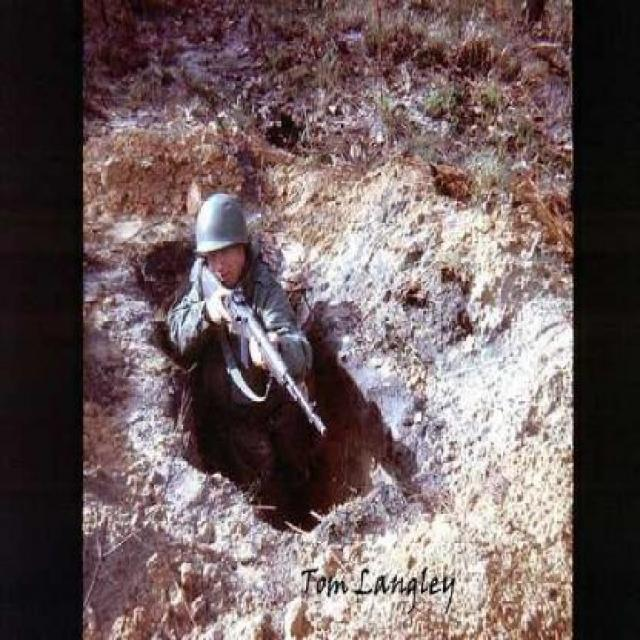weapon: (207, 285, 331, 443)
